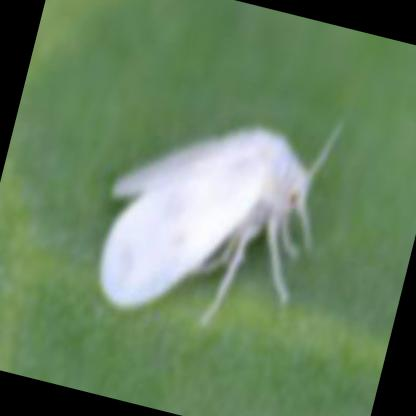whitefly: (98, 127, 344, 312)
